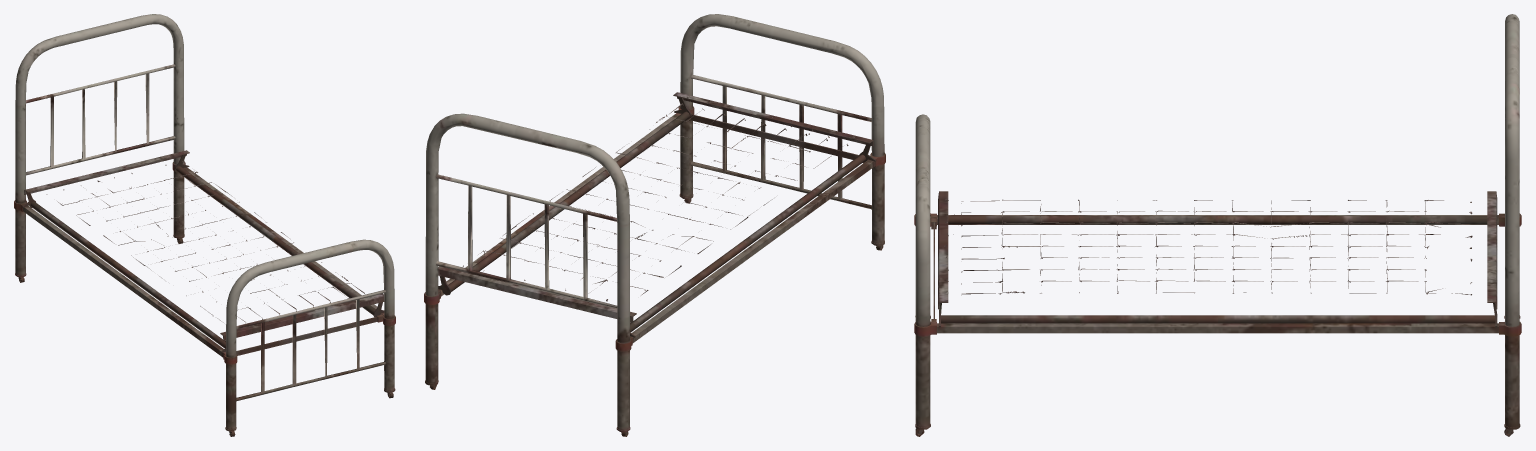
Rendered from bed.glb.
3 views of the same model, side by side, from view 1: azimuth 30°, elevation 25°; view 2: azimuth 150°, elevation 25°; view 3: azimuth 270°, elevation 25° (orthographic). The views are drawn at different scales.
Parts seen in each view (by area): view 1: old_bed_frame; view 2: old_bed_frame; view 3: old_bed_frame.
Part boxes in pixels (bbox=[...]): old_bed_frame: bbox=[14, 14, 395, 436]; old_bed_frame: bbox=[424, 14, 885, 436]; old_bed_frame: bbox=[914, 14, 1521, 436].
Bounding box in the file's own units: 0.9047 × 1.2 × 2.
Materials: 1 (1 with a texture image).
